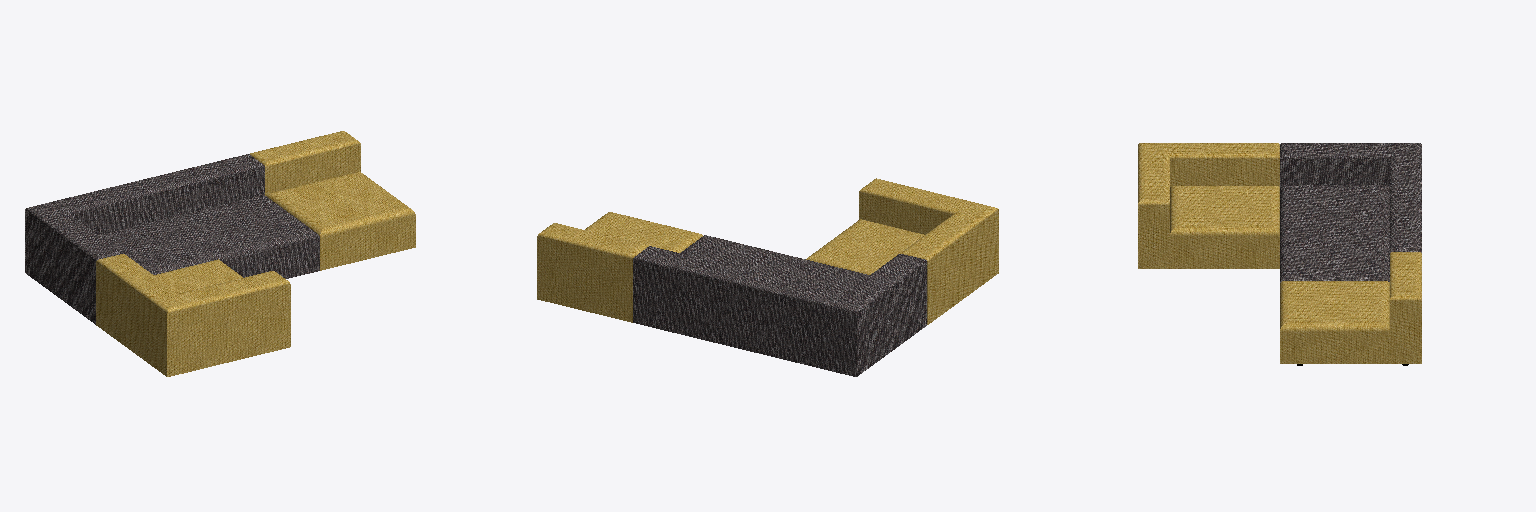
The picture shows the model from 3 angles: view 1: azimuth 30°, elevation 25°; view 2: azimuth 150°, elevation 25°; view 3: azimuth 270°, elevation 25°; orthographic projection.
Visible parts, largest first — view 1: Box4, Box3, Box2, Box7, Box6, Box1, Box5, Box; view 2: Box7, Box5, Box1, Box6, Box4, Box3, Box, Box2; view 3: Box4, Box, Box2, Box1, Box6, Box3, Box5, Box7.
Boxes of the visible parts, <box> form: Box4: <box>100,195,319,278</box>; Box3: <box>167,271,290,376</box>; Box2: <box>266,171,415,270</box>; Box7: <box>25,154,264,272</box>; Box6: <box>26,207,123,324</box>; Box1: <box>96,254,178,376</box>; Box5: <box>250,131,360,195</box>; Box: <box>154,259,242,292</box>; Box7: <box>633,246,856,376</box>; Box5: <box>537,223,648,322</box>; Box1: <box>900,207,998,324</box>; Box6: <box>845,254,926,376</box>; Box4: <box>681,235,869,292</box>; Box3: <box>859,178,990,234</box>; Box: <box>806,219,924,274</box>; Box2: <box>585,212,702,252</box>; Box4: <box>1280,185,1389,282</box>; Box: <box>1170,186,1279,268</box>; Box2: <box>1280,281,1389,363</box>; Box1: <box>1142,143,1279,186</box>; Box6: <box>1280,143,1417,186</box>; Box3: <box>1138,143,1169,268</box>; Box5: <box>1390,252,1421,363</box>; Box7: <box>1390,143,1421,252</box>.
Bounding box in the file's own units: 28.42 × 6.21 × 21.9.
Materials: 3 (2 with a texture image).